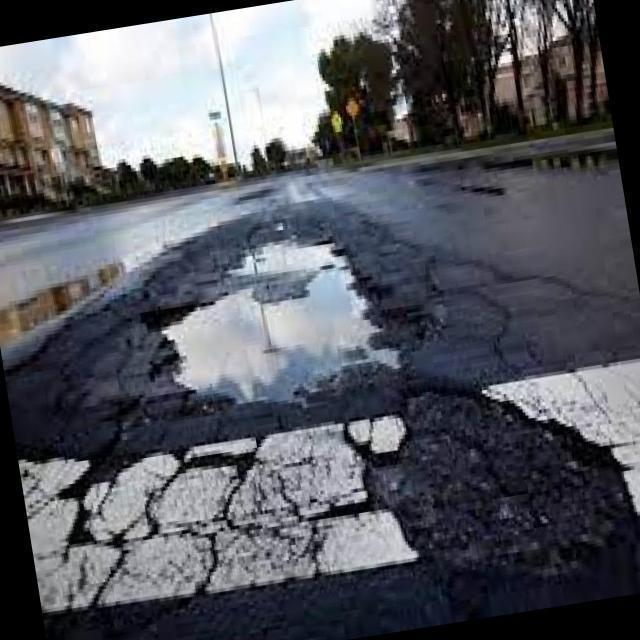pothole: (179, 227, 402, 403)
